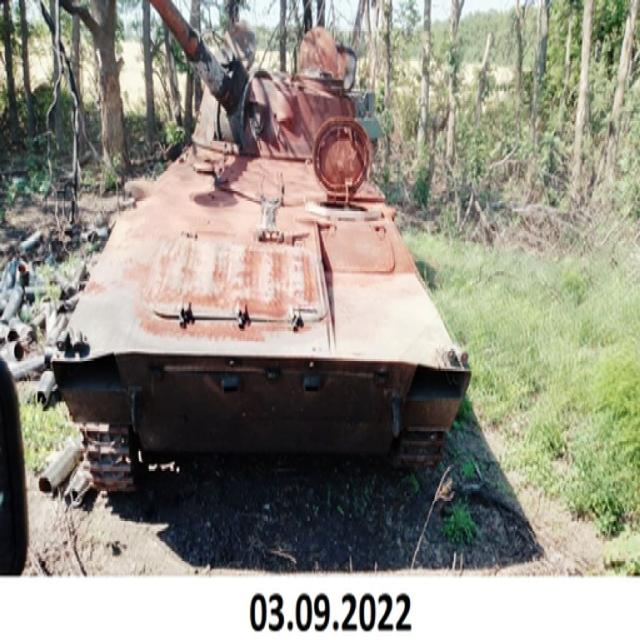ART: (51, 0, 471, 482)
